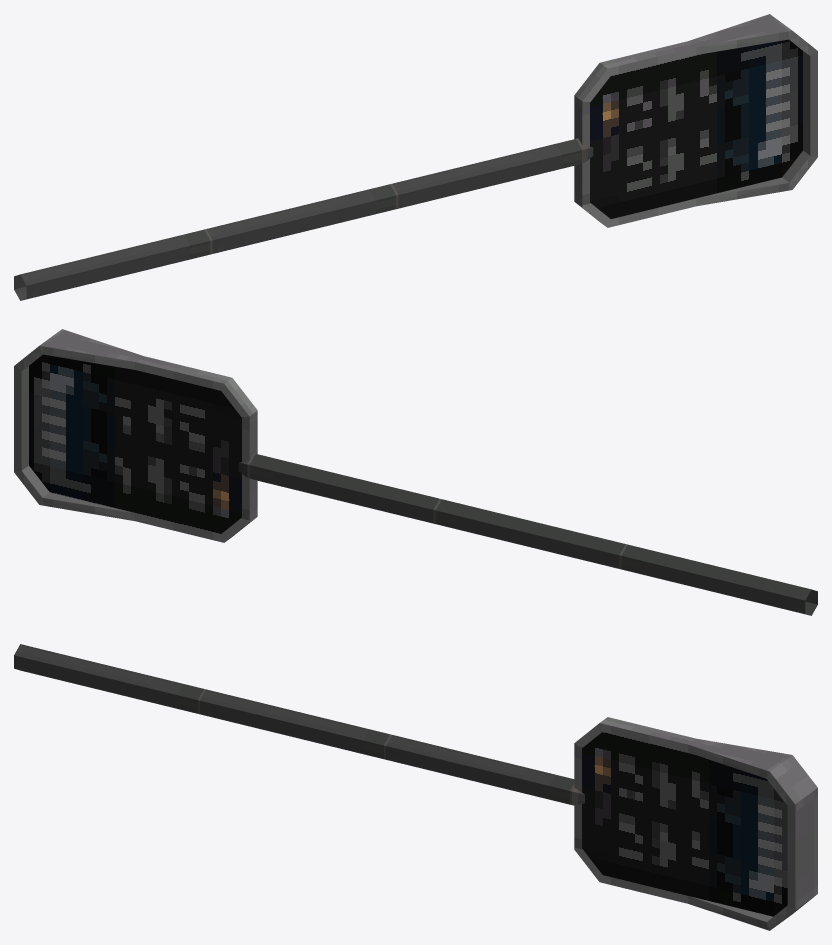
File: busstop.glb
3 renders of one model, top to bottom at view 1: azimuth 30°, elevation 25°; view 2: azimuth 150°, elevation 25°; view 3: azimuth 330°, elevation 25°, orthographic.
Visible parts, largest first — view 1: bus-stop-sign; view 2: bus-stop-sign; view 3: bus-stop-sign.
Part boxes in pixels (x1=…): bus-stop-sign: x1=14, y1=14, x2=817, y2=300; bus-stop-sign: x1=14, y1=329, x2=817, y2=615; bus-stop-sign: x1=14, y1=644, x2=817, y2=930.
Bounding box in the file's own units: 1.36 × 0.264 × 0.0686.
Materials: 1 (1 with a texture image).
